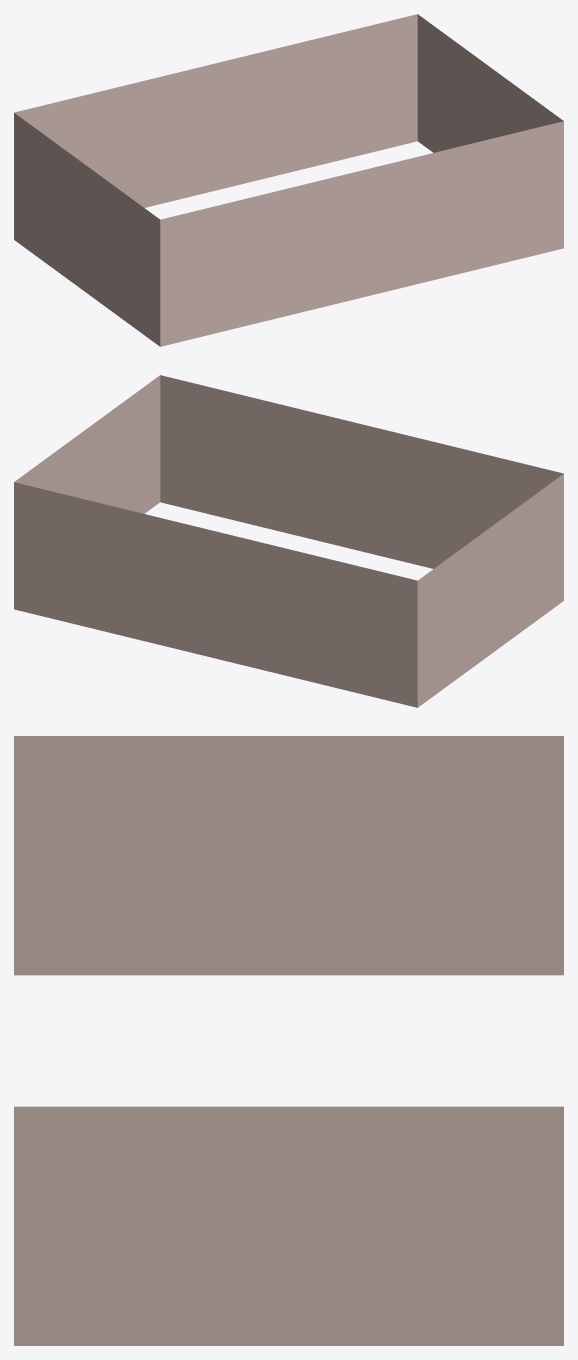
The model's file is cabin .fbx.
3 views of the same model, one above another, from view 1: azimuth 30°, elevation 25°; view 2: azimuth 150°, elevation 25°; view 3: azimuth 270°, elevation 25° (orthographic). The views are drawn at different scales.
Parts seen in each view (by area): view 1: Room; view 2: Room; view 3: Room.
Part boxes in pixels (x1,y1,x2,y2): Room: (14,14,563,346); Room: (14,375,563,707); Room: (14,736,563,1345).
Bounding box in the file's own units: 797 × 240 × 500.
